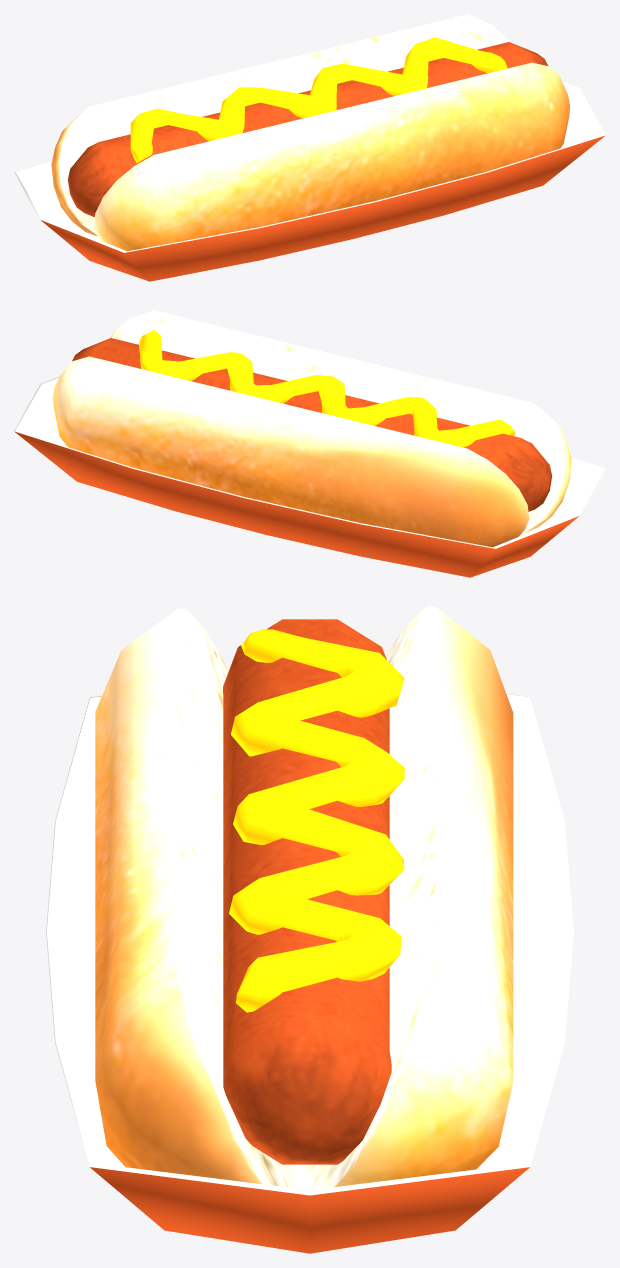
Rendered from hotdog.glb.
3 renders of one model, top to bottom at view 1: azimuth 30°, elevation 25°; view 2: azimuth 150°, elevation 25°; view 3: azimuth 270°, elevation 25°, orthographic. The views are drawn at different scales.
Visible parts, largest first — view 1: Hotdog_Hotdog_0; view 2: Hotdog_Hotdog_0; view 3: Hotdog_Hotdog_0.
Boxes of the visible parts, left/top/right/bottom form: Hotdog_Hotdog_0: left=14, top=14, right=605, bottom=281; Hotdog_Hotdog_0: left=14, top=310, right=605, bottom=577; Hotdog_Hotdog_0: left=46, top=606, right=573, bottom=1253.
Size of the model in its own units: 397 by 86.8 by 168.
Materials: 1 (1 with a texture image).
